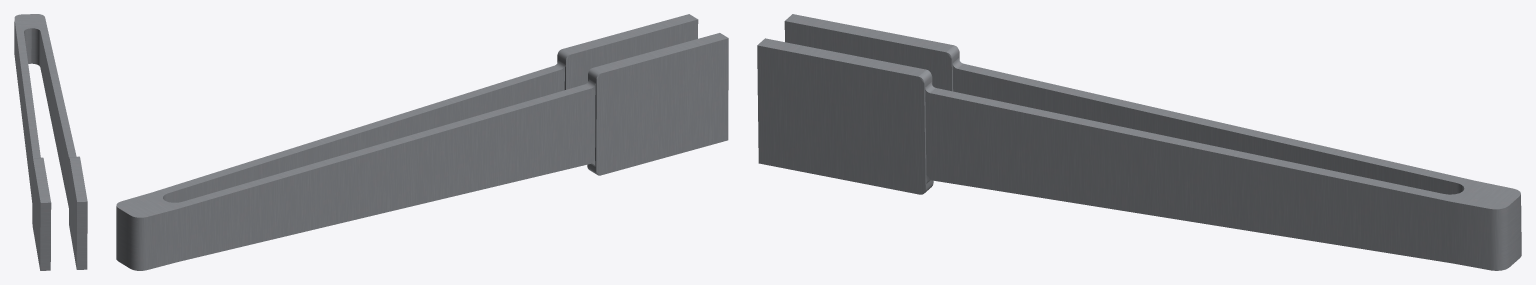
Rendered from gap.glb.
3 views of the same model, side by side, from view 1: azimuth 30°, elevation 25°; view 2: azimuth 150°, elevation 25°; view 3: azimuth 270°, elevation 25° (orthographic). The views are drawn at different scales.
Visible parts, largest first — view 1: Cube.005; view 2: Cube.005; view 3: Cube.005.
Part boxes in pixels (x1,y1,x2,y2): Cube.005: (14, 14, 87, 270); Cube.005: (116, 14, 728, 270); Cube.005: (757, 14, 1521, 270).
Size of the model in its own units: 0.7727 by 0.248 by 1.43.
1 material, 1 textured.
